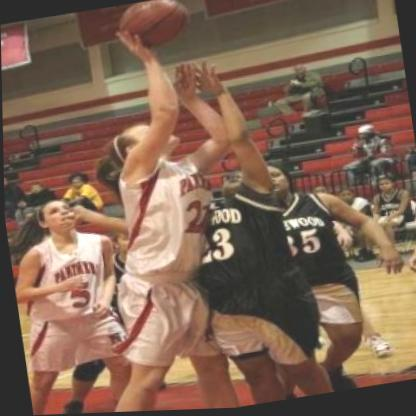basketball: (112, 0, 201, 61)
